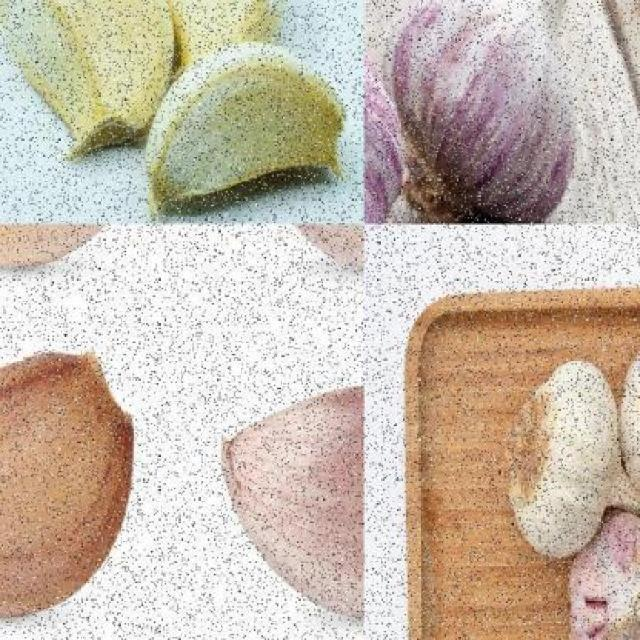garlic: (372, 0, 612, 223), (200, 374, 362, 618), (0, 346, 142, 620), (131, 34, 354, 208), (0, 0, 175, 171), (502, 356, 621, 562), (104, 0, 281, 97), (566, 512, 640, 640)
